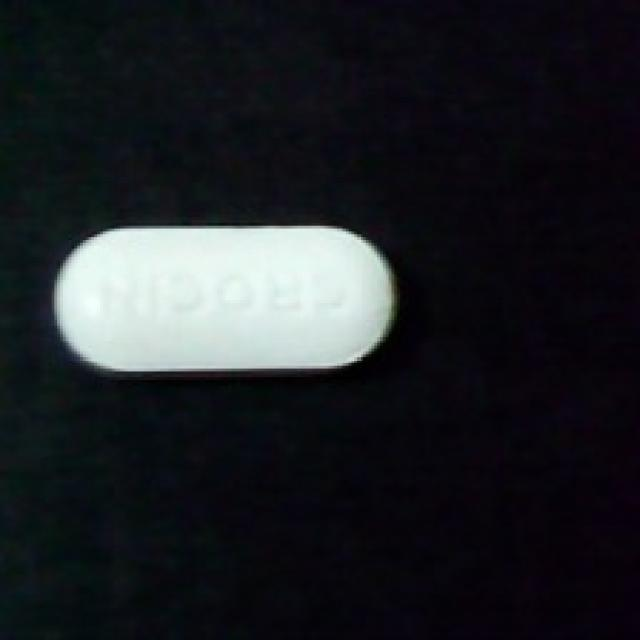no-defect: (49, 220, 400, 386)
